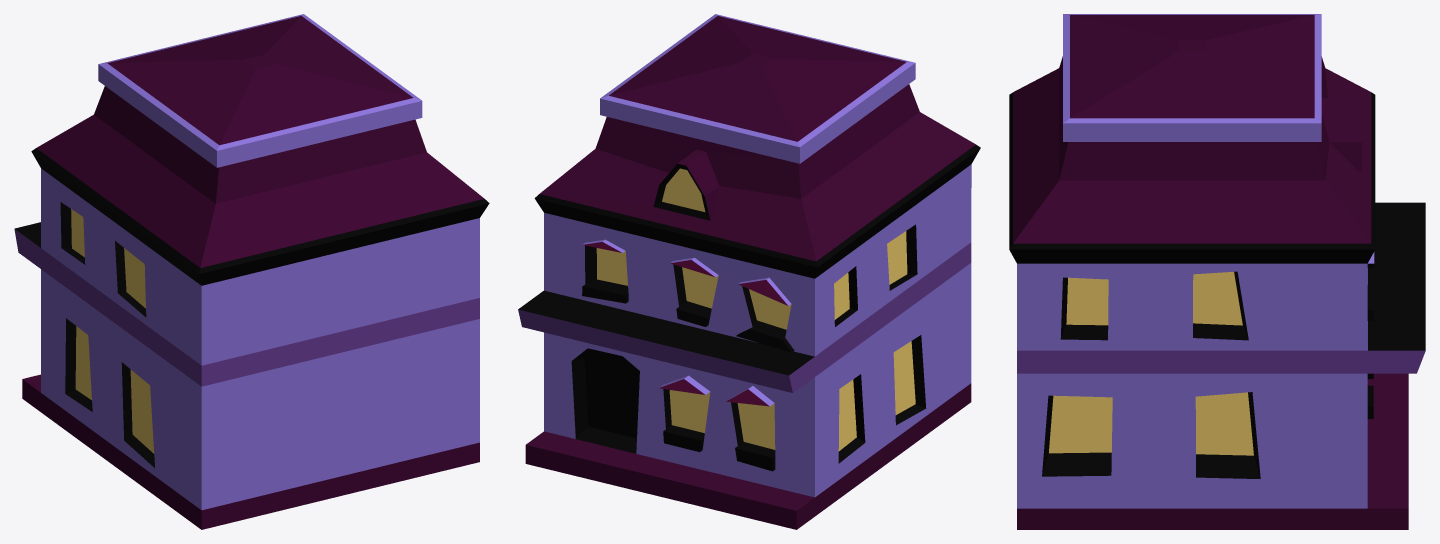
File: haunted_house.glb
3 renders of one model, left to right at view 1: azimuth 30°, elevation 25°; view 2: azimuth 150°, elevation 25°; view 3: azimuth 270°, elevation 25°, orthographic. The views are drawn at different scales.
Parts seen in each view (by area): view 1: HauntedHouse; view 2: HauntedHouse; view 3: HauntedHouse.
Part boxes in pixels (left/top/right/bottom): HauntedHouse: left=14, top=14, right=489, bottom=529; HauntedHouse: left=518, top=14, right=980, bottom=529; HauntedHouse: left=1009, top=14, right=1425, bottom=529.
Size of the model in its own units: 2.09 by 2.58 by 2.38.
Materials: 1 (1 with a texture image).
